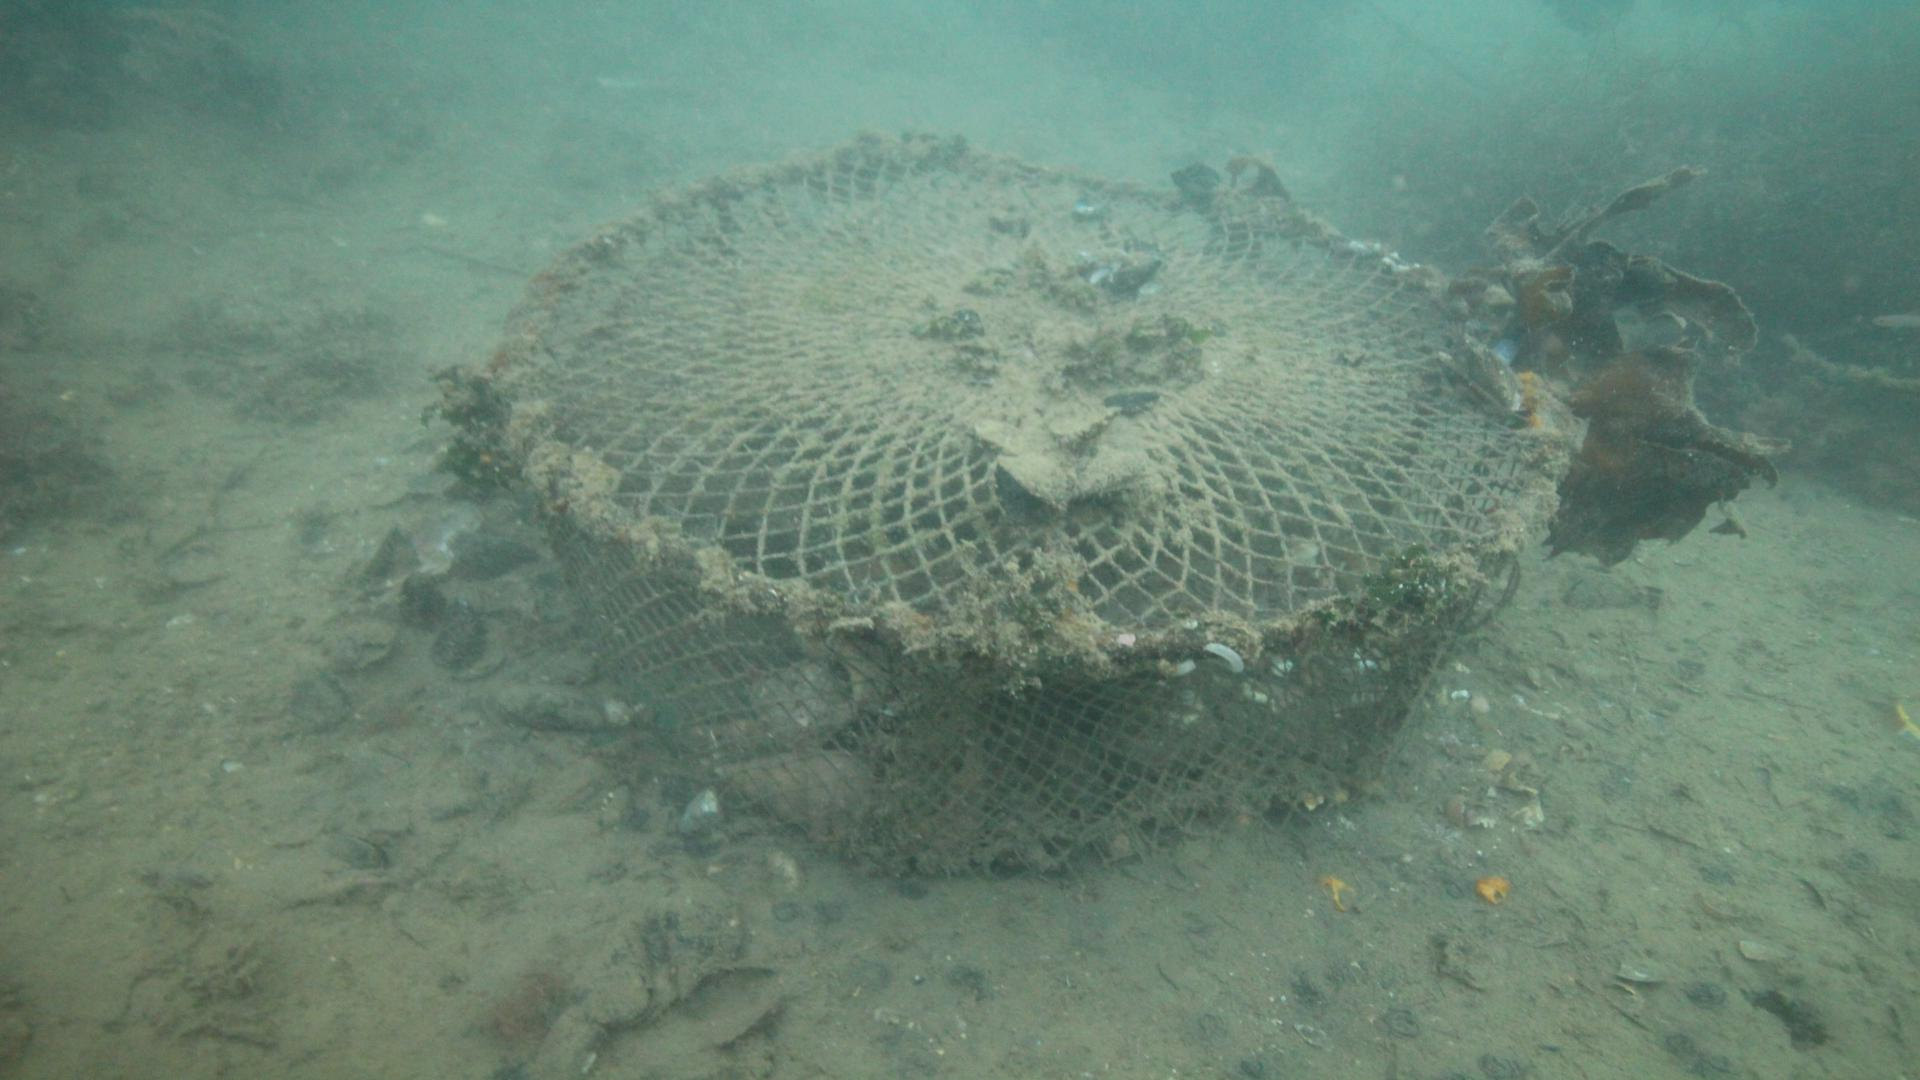circular fish trap: (485, 135, 1564, 882)
